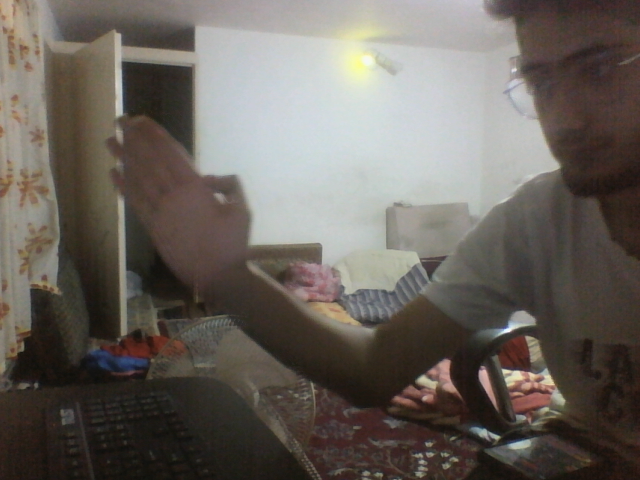sorat: (511, 3, 635, 194)
taslim: (105, 112, 250, 290)
